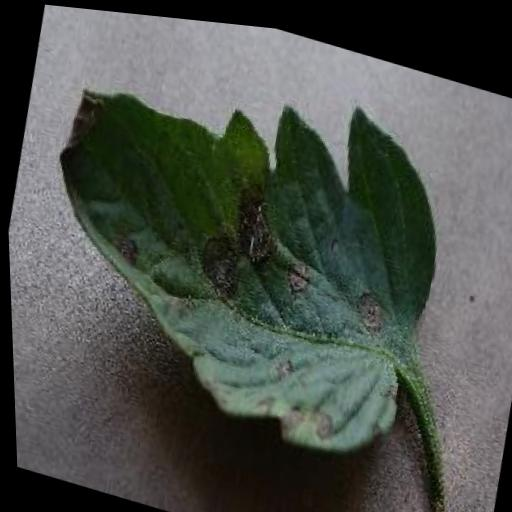Early Blight: (13, 17, 468, 473)
